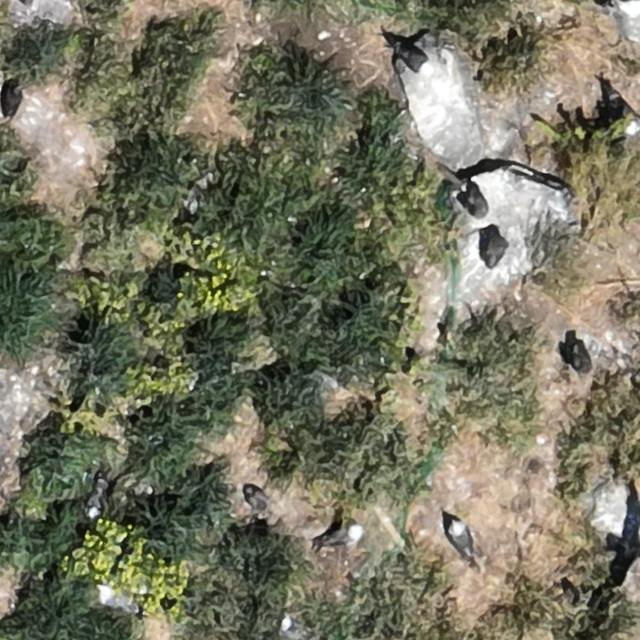umineko: (448, 522, 470, 557), (101, 588, 136, 610), (325, 524, 362, 544), (400, 49, 430, 72), (86, 483, 104, 518), (624, 120, 639, 139)
